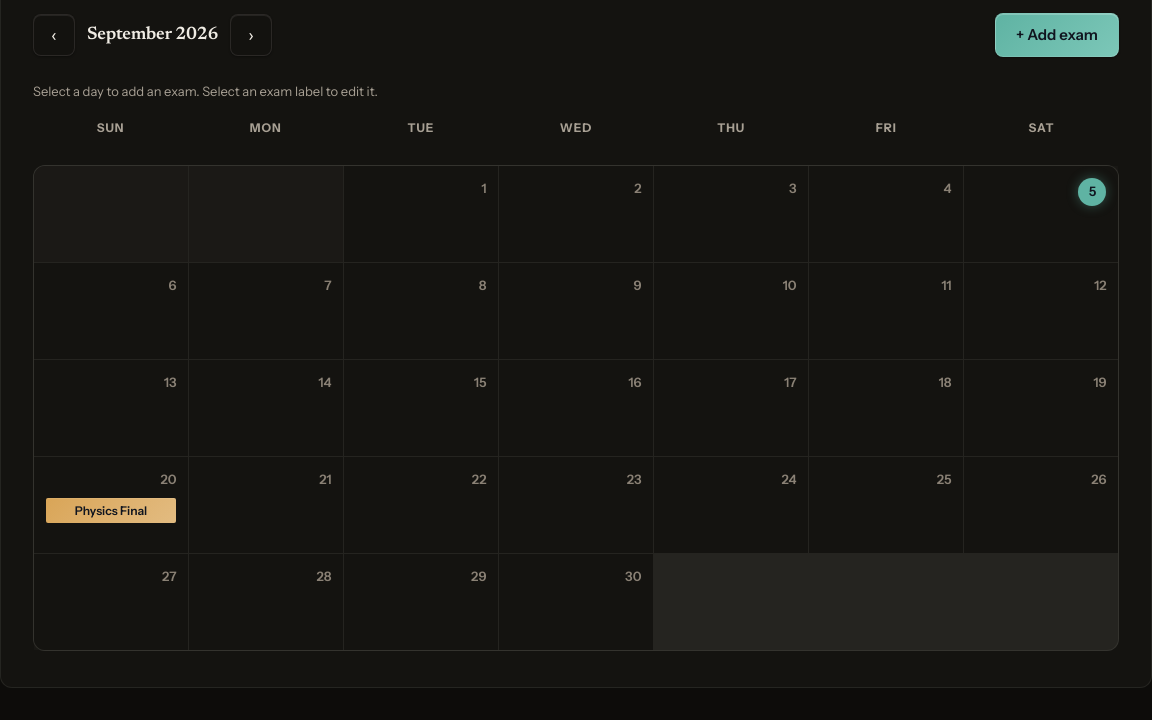
ExamsView › clicking an exam bar edits it rather than opening the day list
This screenshot has width=1152, height=720.
(page scrolled)
What coordinates should you click on to do the following:
click the button "Physics Final"
I would click on:
 (111, 510)
Its box is top-left (46, 498), bottom-right (176, 523).
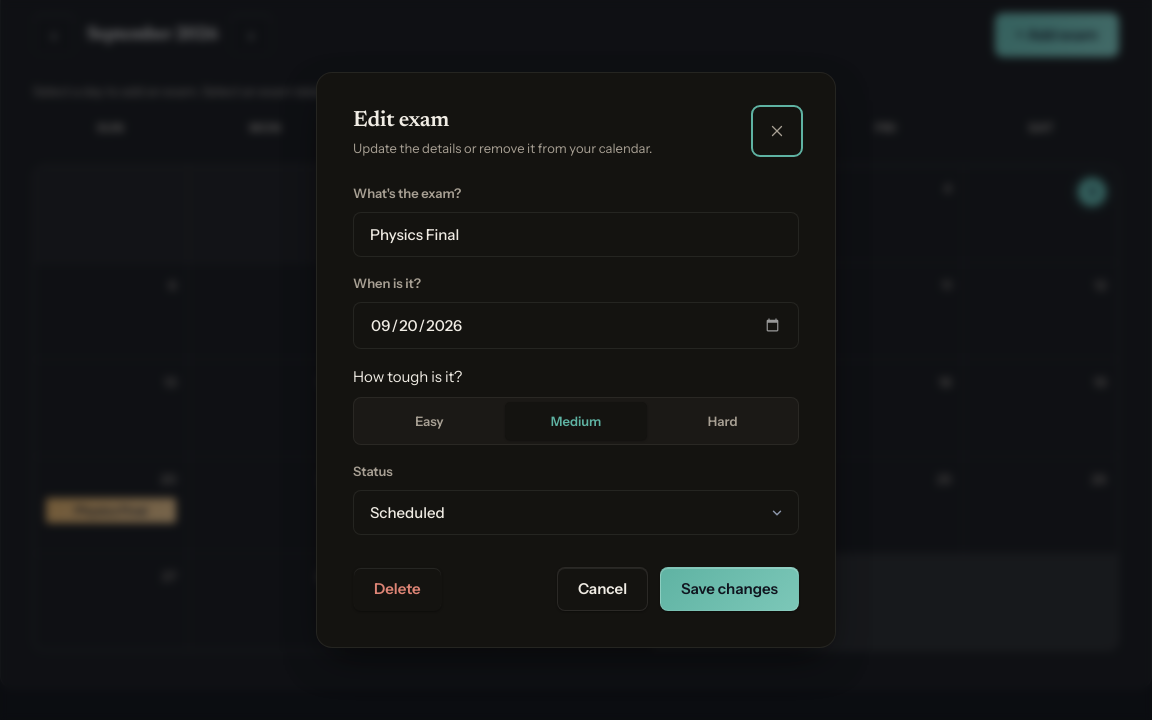
Check: the heading "Edit exam" is shown, box top-left (353, 110), bottom-right (449, 132)
